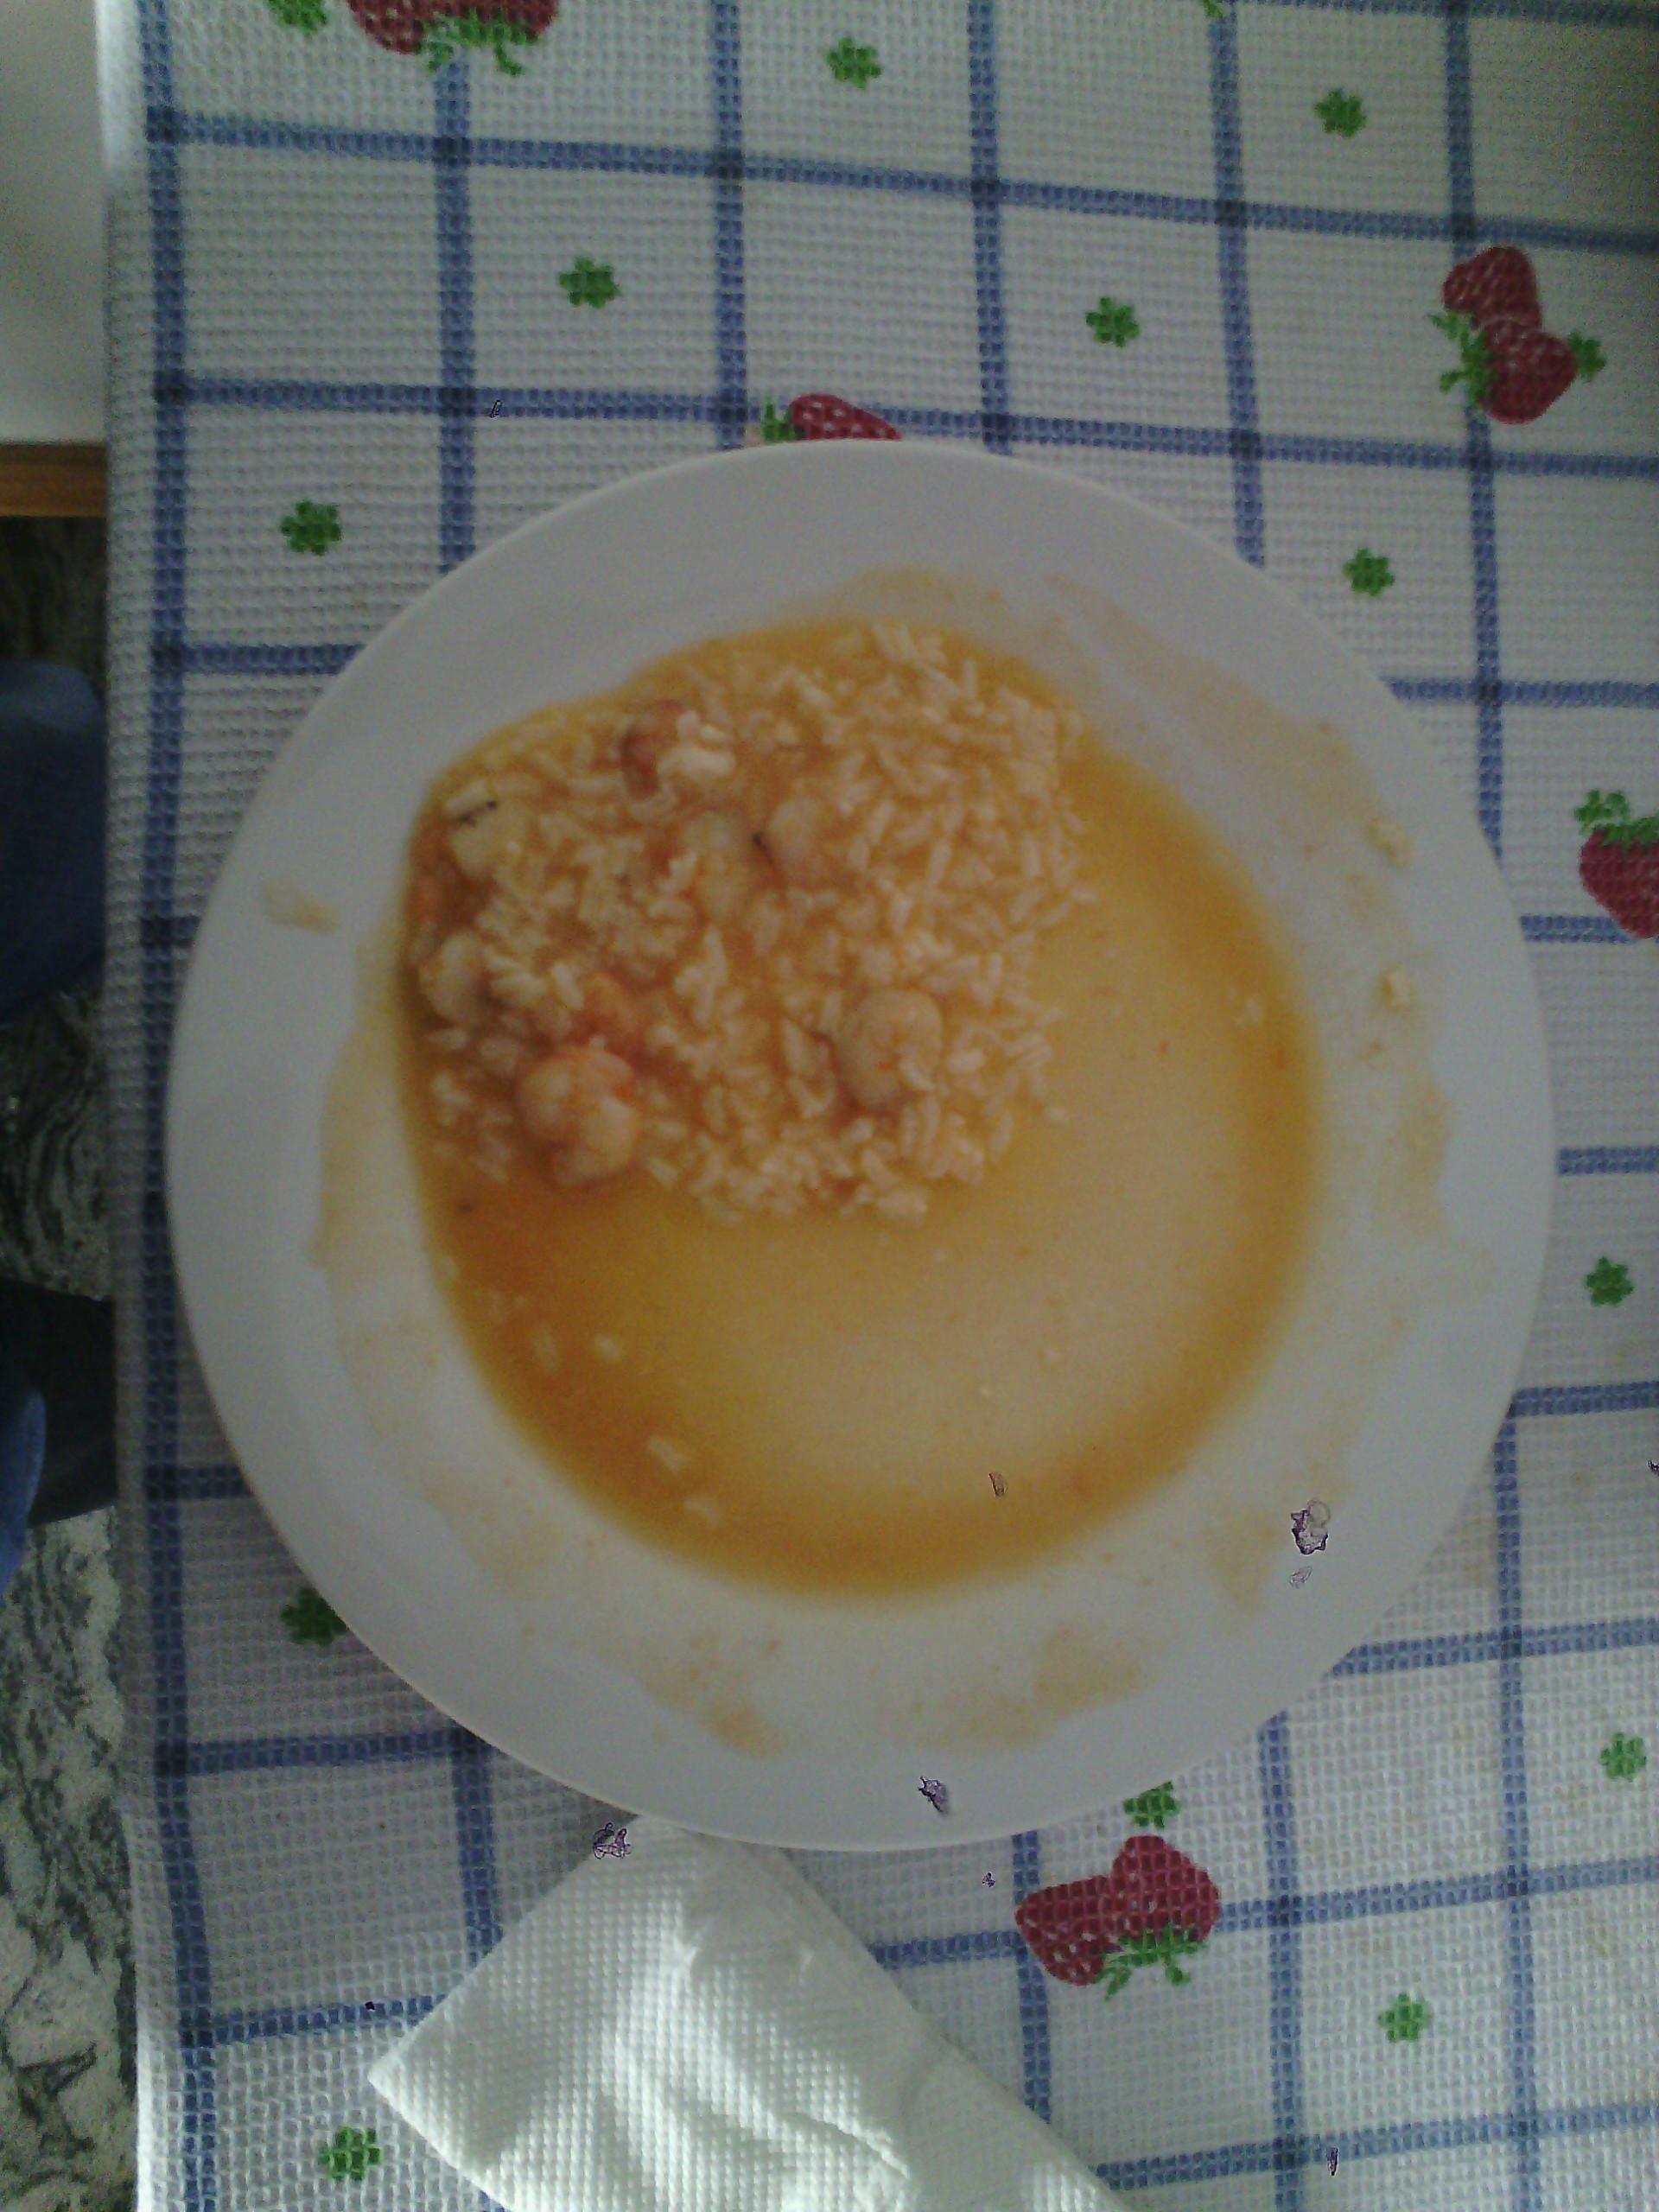21-40: (190, 451, 1549, 1846)
